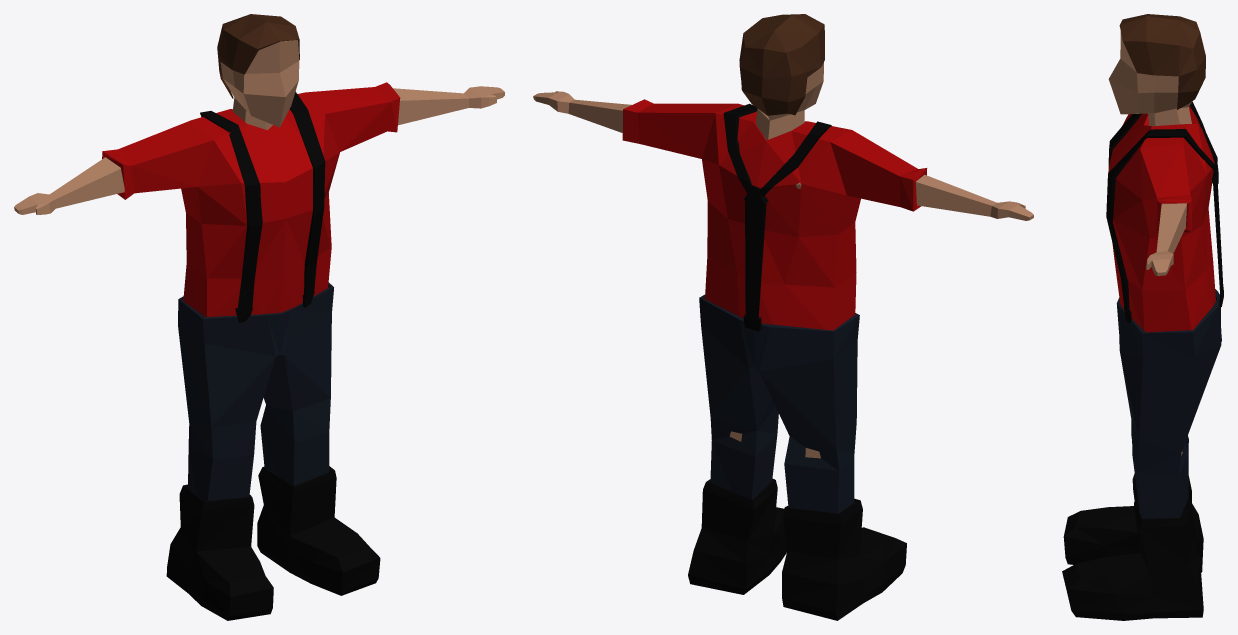
File: HunterModel2.fbx
The picture shows the model from 3 angles, left to right: view 1: azimuth 30°, elevation 25°; view 2: azimuth 150°, elevation 25°; view 3: azimuth 270°, elevation 25°; orthographic projection. The views are drawn at different scales.
Parts seen in each view (by area): view 1: Plaid Shirt, Jeans, Boots, 1 Body, Suspenders, Hair; view 2: Plaid Shirt, Jeans, Boots, Hair, 1 Body, Suspenders; view 3: Plaid Shirt, Boots, Jeans, 1 Body, Hair, Suspenders.
Part boxes in pixels (<box>): Plaid Shirt: <box>102,82,400,316</box>; Jeans: <box>178,282,333,500</box>; Boots: <box>166,466,380,620</box>; 1 Body: <box>14,40,504,214</box>; Suspenders: <box>200,91,325,322</box>; Hair: <box>217,14,299,98</box>; Plaid Shirt: <box>622,99,927,330</box>; Jeans: <box>699,294,859,513</box>; Boots: <box>688,478,906,620</box>; Hair: <box>739,14,824,115</box>; 1 Body: <box>533,62,1033,458</box>; Suspenders: <box>723,103,831,331</box>; Plaid Shirt: <box>1108,106,1215,332</box>; Boots: <box>1062,474,1203,620</box>; Jeans: <box>1116,289,1221,518</box>; 1 Body: <box>1108,31,1192,455</box>; Hair: <box>1119,14,1205,109</box>; Suspenders: <box>1106,102,1223,323</box>.
Size of the model in its own units: 1477 by 1614 by 418.
